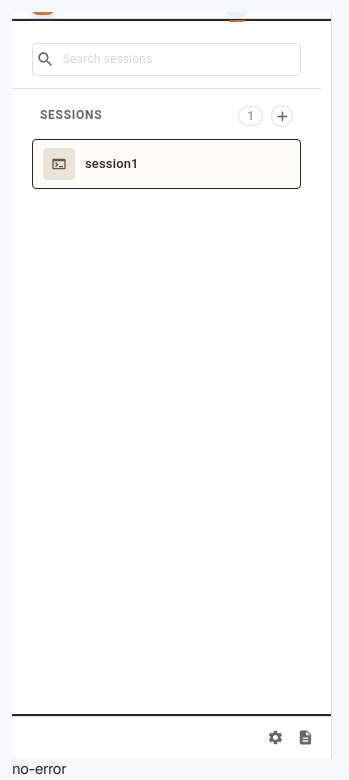
it: Sidebar session loading › handleOpenSession error path › listPanes failure sets error in store
(page scrolled)
Expected: the element with test id "session-card-session1" is shown, [32, 139, 301, 189]
Click the button with test id "session-open-session1". click: (91, 164)
box: [43, 148, 139, 180]
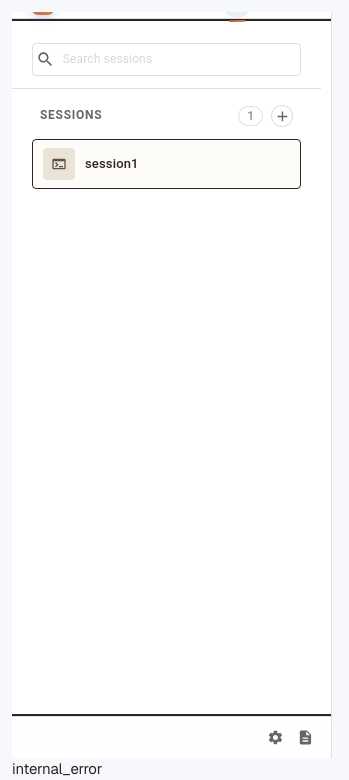
Result: the text with test id "error-state" reads "internal_error" at [12, 759, 102, 778]
